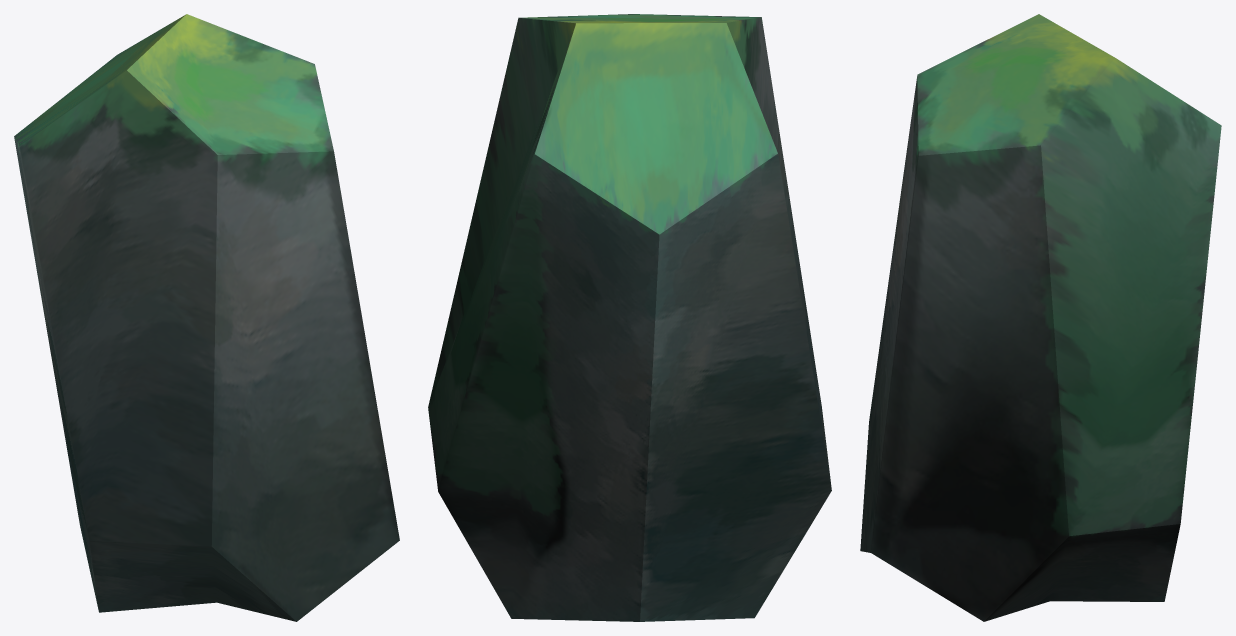
Rendered from Rock.fbx.
The picture shows the model from 3 angles, left to right: view 1: azimuth 30°, elevation 25°; view 2: azimuth 150°, elevation 25°; view 3: azimuth 270°, elevation 25°; orthographic projection. The views are drawn at different scales.
Visible parts, largest first — view 1: pasted__pPlatonic1; view 2: pasted__pPlatonic1; view 3: pasted__pPlatonic1.
Boxes of the visible parts, x1,y1,x2,y2 form: pasted__pPlatonic1: (14, 14, 399, 621); pasted__pPlatonic1: (428, 14, 831, 621); pasted__pPlatonic1: (860, 14, 1221, 621).
Size of the model in its own units: 272 by 420 by 258.
